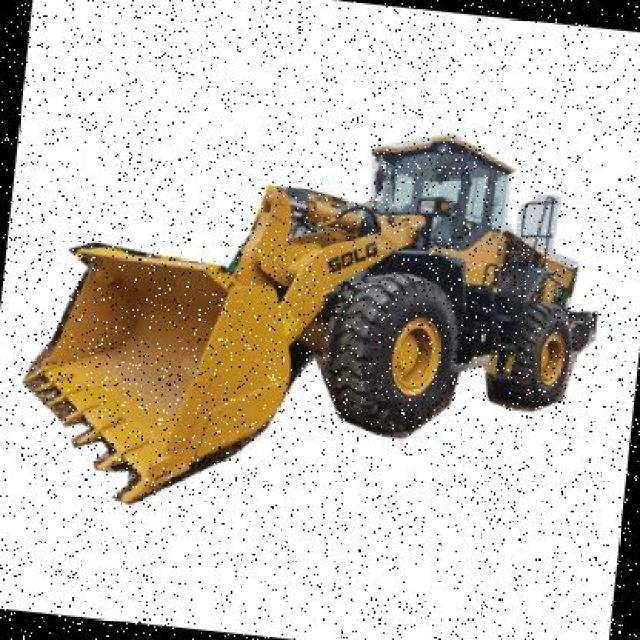buldozerpayloadergrader: (3, 89, 611, 568)
